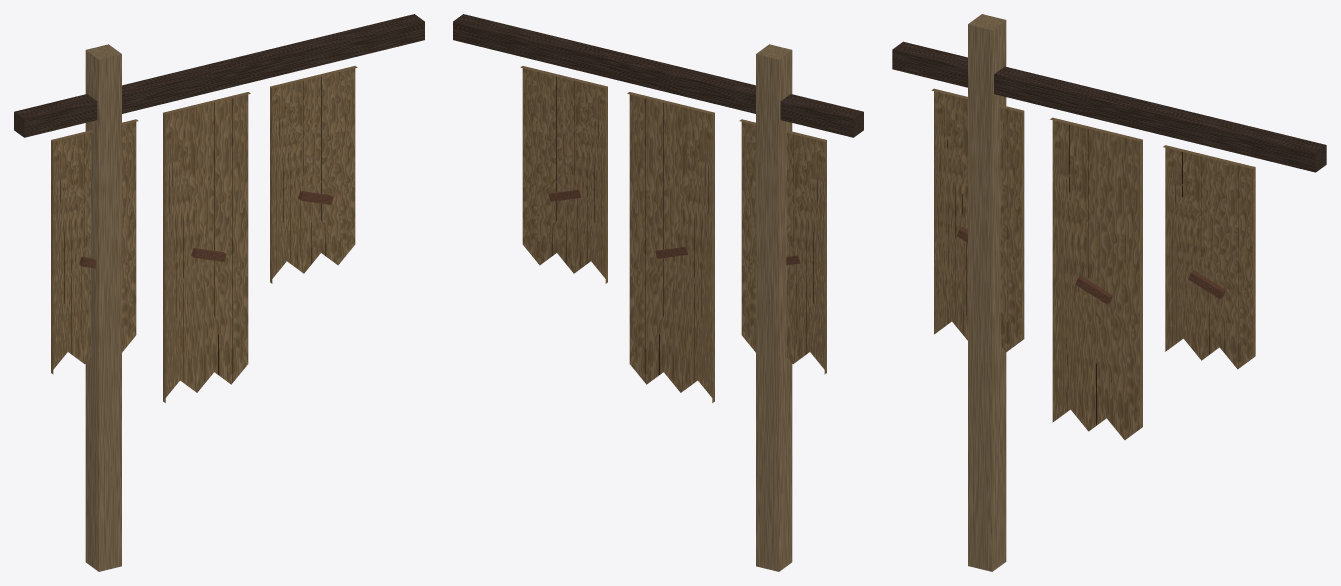
Rendered from old_bleached_banners.glb.
3 views of the same model, side by side, from view 1: azimuth 30°, elevation 25°; view 2: azimuth 150°, elevation 25°; view 3: azimuth 330°, elevation 25° (orthographic). The views are drawn at different scales.
Visible parts, largest first — view 1: old_bleached_banners; view 2: old_bleached_banners; view 3: old_bleached_banners.
Boxes of the visible parts, <box> form: old_bleached_banners: <box>14,14,424,571</box>; old_bleached_banners: <box>453,14,863,571</box>; old_bleached_banners: <box>892,14,1326,571</box>.
Bounding box in the file's own units: 2.25 × 2.75 × 0.13.
1 material, 1 textured.
